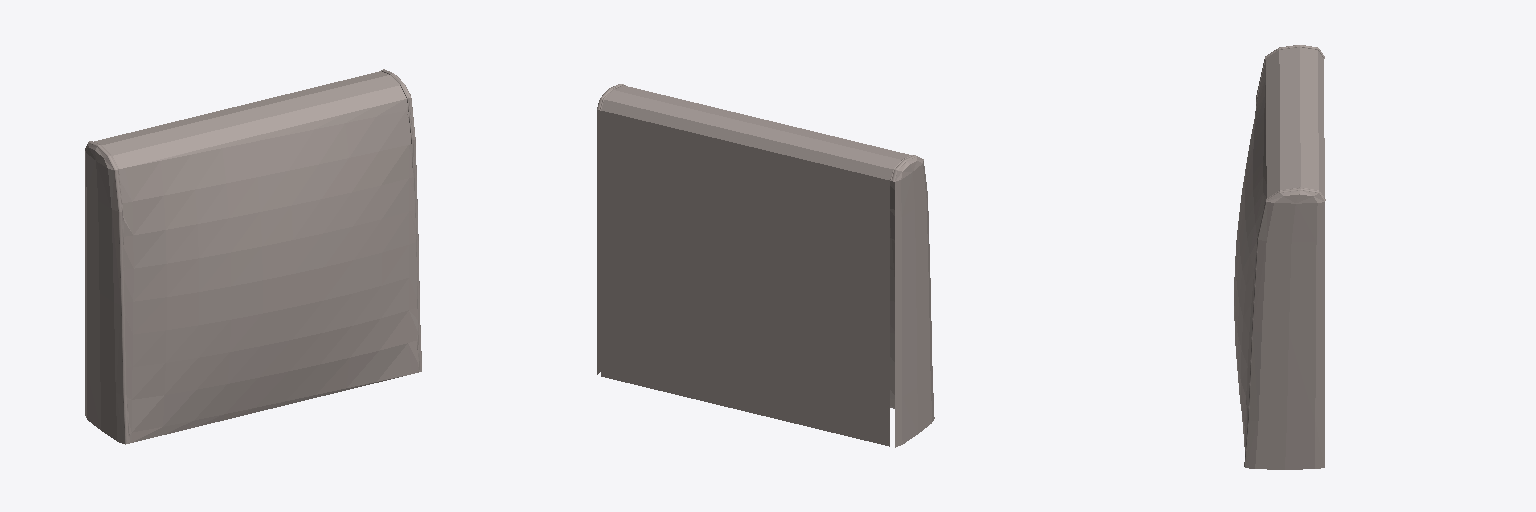
Rendered from back.obj.
The picture shows the model from 3 angles: view 1: azimuth 30°, elevation 25°; view 2: azimuth 150°, elevation 25°; view 3: azimuth 270°, elevation 25°; orthographic projection.
Visible parts, largest first — view 1: back; view 2: back; view 3: back.
Part boxes in pixels (left/top/right/bottom): back: left=85, top=69, right=421, bottom=444; back: left=597, top=84, right=934, bottom=447; back: left=1234, top=45, right=1325, bottom=469.
Bounding box in the file's own units: 15.52 × 13.56 × 4.05.